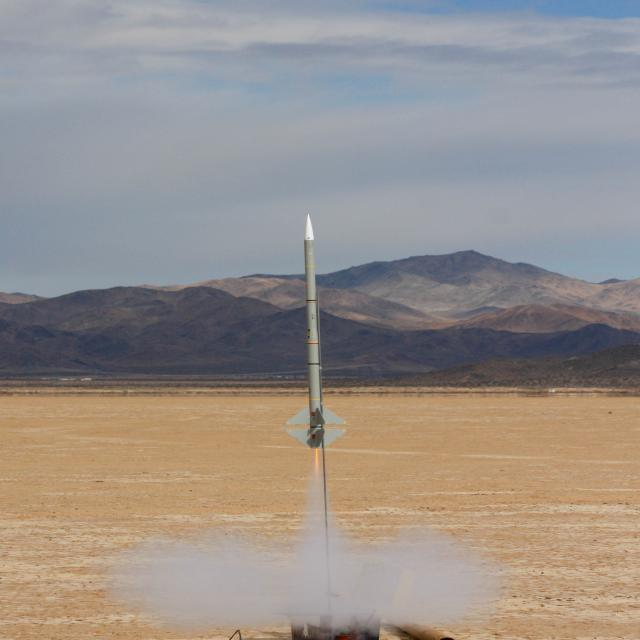Rocket: (285, 212, 349, 448)
